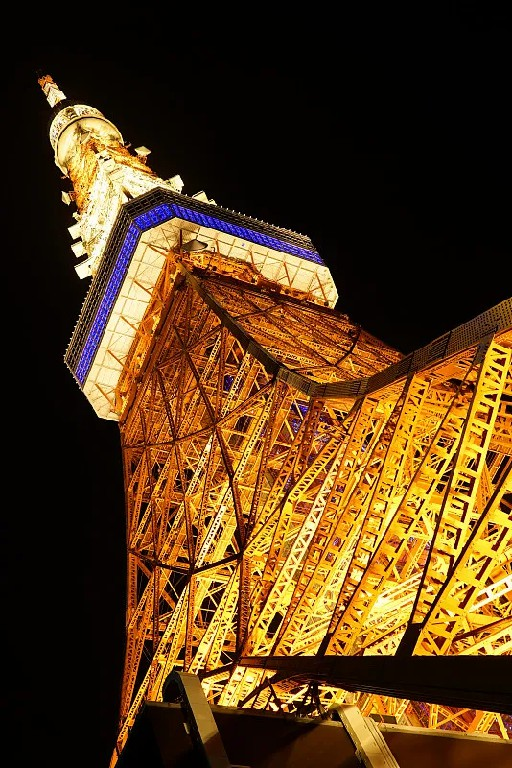Tokyo: (29, 70, 512, 768)
